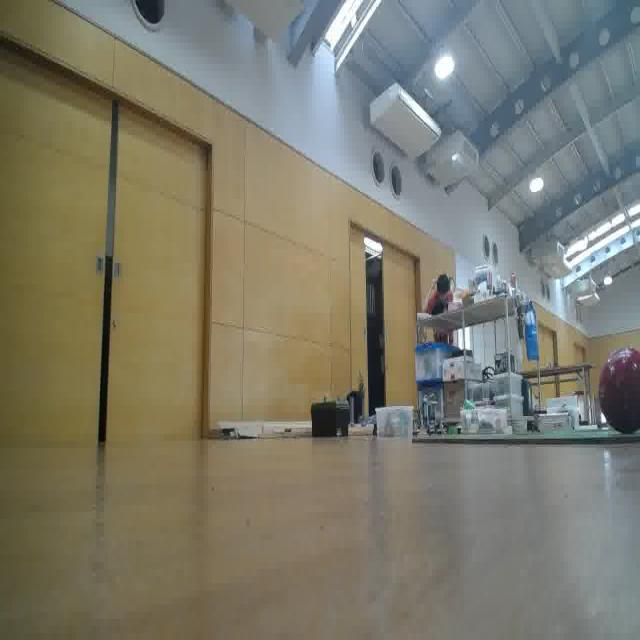red_ball: (597, 340, 640, 425)
